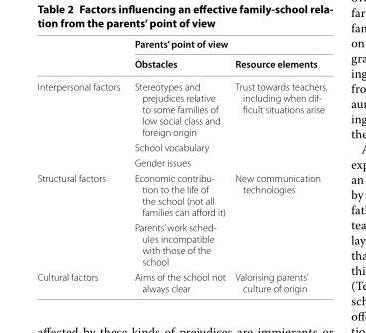table: (36, 36, 326, 293)
table column: (126, 36, 229, 293), (229, 36, 326, 293), (36, 36, 126, 293)
table column header: (36, 36, 326, 74)
table row: (36, 74, 326, 139), (36, 170, 326, 219), (36, 219, 326, 268), (36, 268, 326, 293), (36, 53, 326, 74), (36, 36, 326, 53), (36, 154, 326, 170), (36, 139, 326, 154)
table spanning cell: (229, 170, 326, 268), (36, 170, 126, 268), (36, 74, 126, 170), (126, 36, 326, 53)
